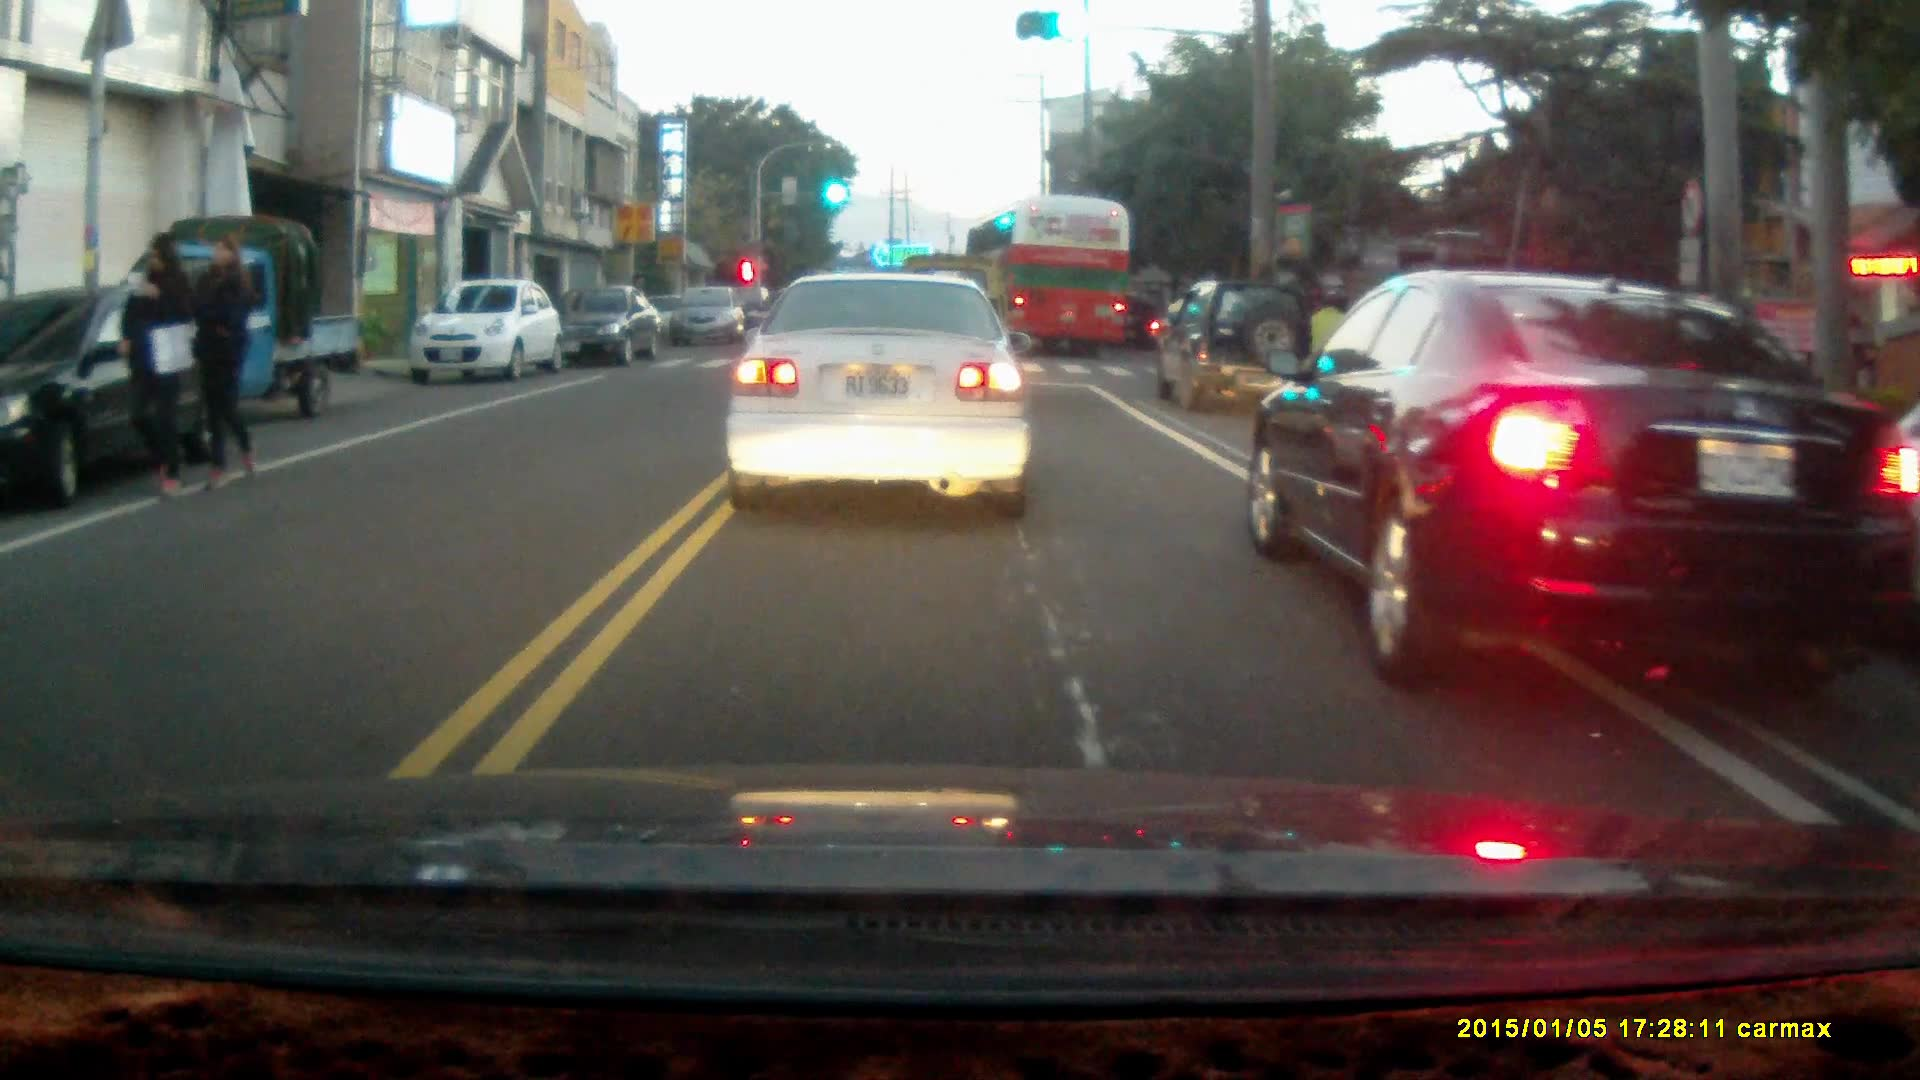pedestrian: (117, 232, 196, 494), (190, 231, 257, 490)
rider: (1308, 285, 1365, 405), (1117, 291, 1161, 352)
vehicle: (1246, 271, 1903, 679), (722, 266, 1032, 519), (1, 281, 252, 508), (117, 213, 366, 420), (963, 197, 1130, 359), (1158, 276, 1316, 413), (409, 279, 563, 384), (552, 279, 665, 369), (667, 286, 750, 350)
